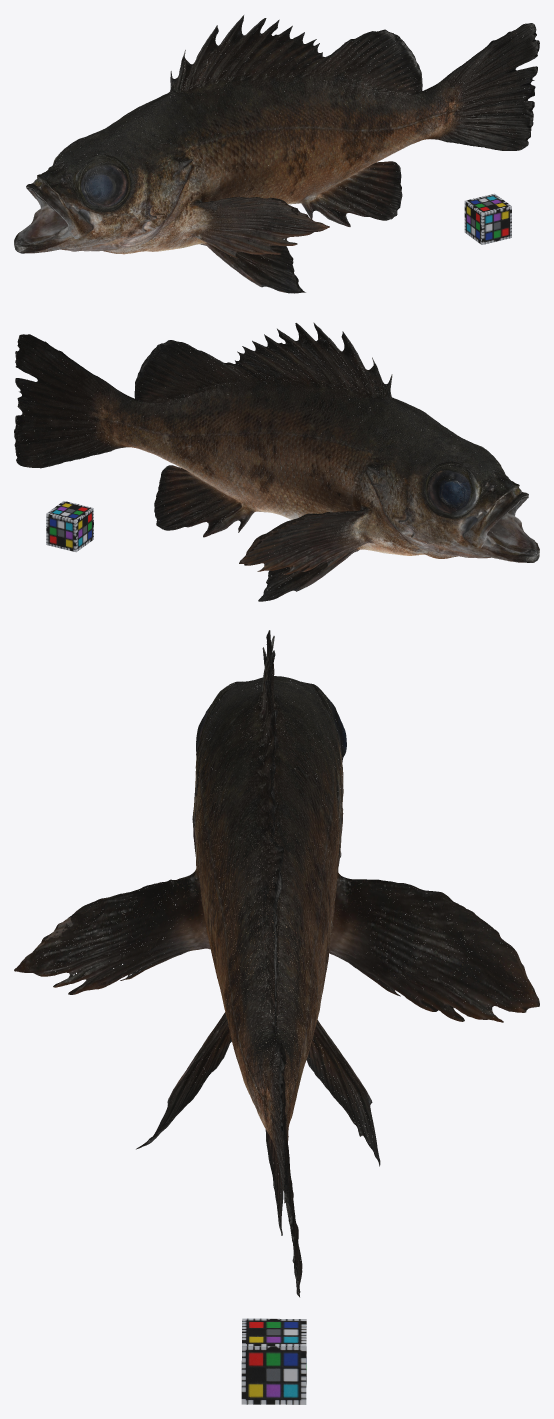
Rendered from mebaru.glb.
3 renders of one model, top to bottom at view 1: azimuth 30°, elevation 25°; view 2: azimuth 150°, elevation 25°; view 3: azimuth 270°, elevation 25°, orthographic. The views are drawn at different scales.
Visible parts, largest first — view 1: Q11629-1all-2_5, Cube_2; view 2: Q11629-1all-2_5, Cube_2; view 3: Q11629-1all-2_5, Cube_2.
Part boxes in pixels (left/top/right/bottom): Q11629-1all-2_5: left=14, top=15, right=539, bottom=293; Cube_2: left=464, top=193, right=511, bottom=244; Q11629-1all-2_5: left=14, top=322, right=539, bottom=601; Cube_2: left=46, top=501, right=93, bottom=552; Q11629-1all-2_5: left=14, top=630, right=539, bottom=1297; Cube_2: left=241, top=1318, right=306, bottom=1404.
Size of the model in its own units: 8.81 by 4.5 by 4.13.
Materials: 3 (3 with a texture image).
